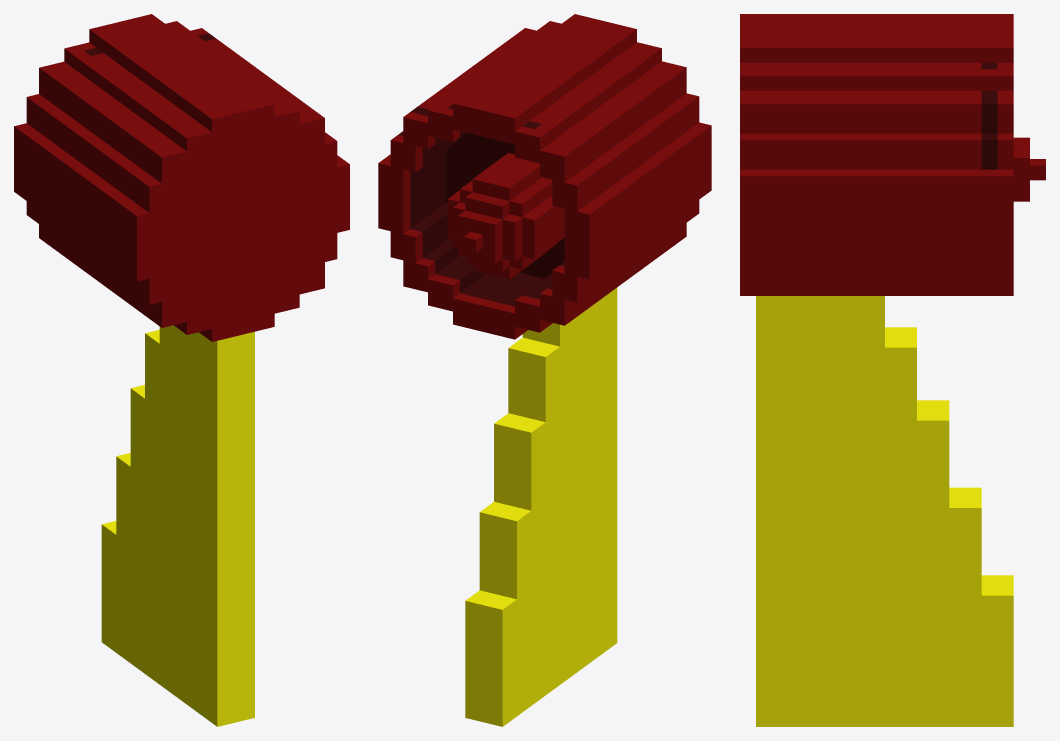
File: armURSS.FBX
3 renders of one model, left to right at view 1: azimuth 30°, elevation 25°; view 2: azimuth 150°, elevation 25°; view 3: azimuth 270°, elevation 25°, orthographic. The views are drawn at different scales.
Visible parts, largest first — view 1: default; view 2: default; view 3: default.
Part boxes in pixels (x1,y1,x2,y2): default: (14, 14, 349, 726); default: (378, 14, 711, 726); default: (740, 14, 1045, 726).
Size of the model in its own units: 17 by 19 by 47.
1 material, 1 textured.
